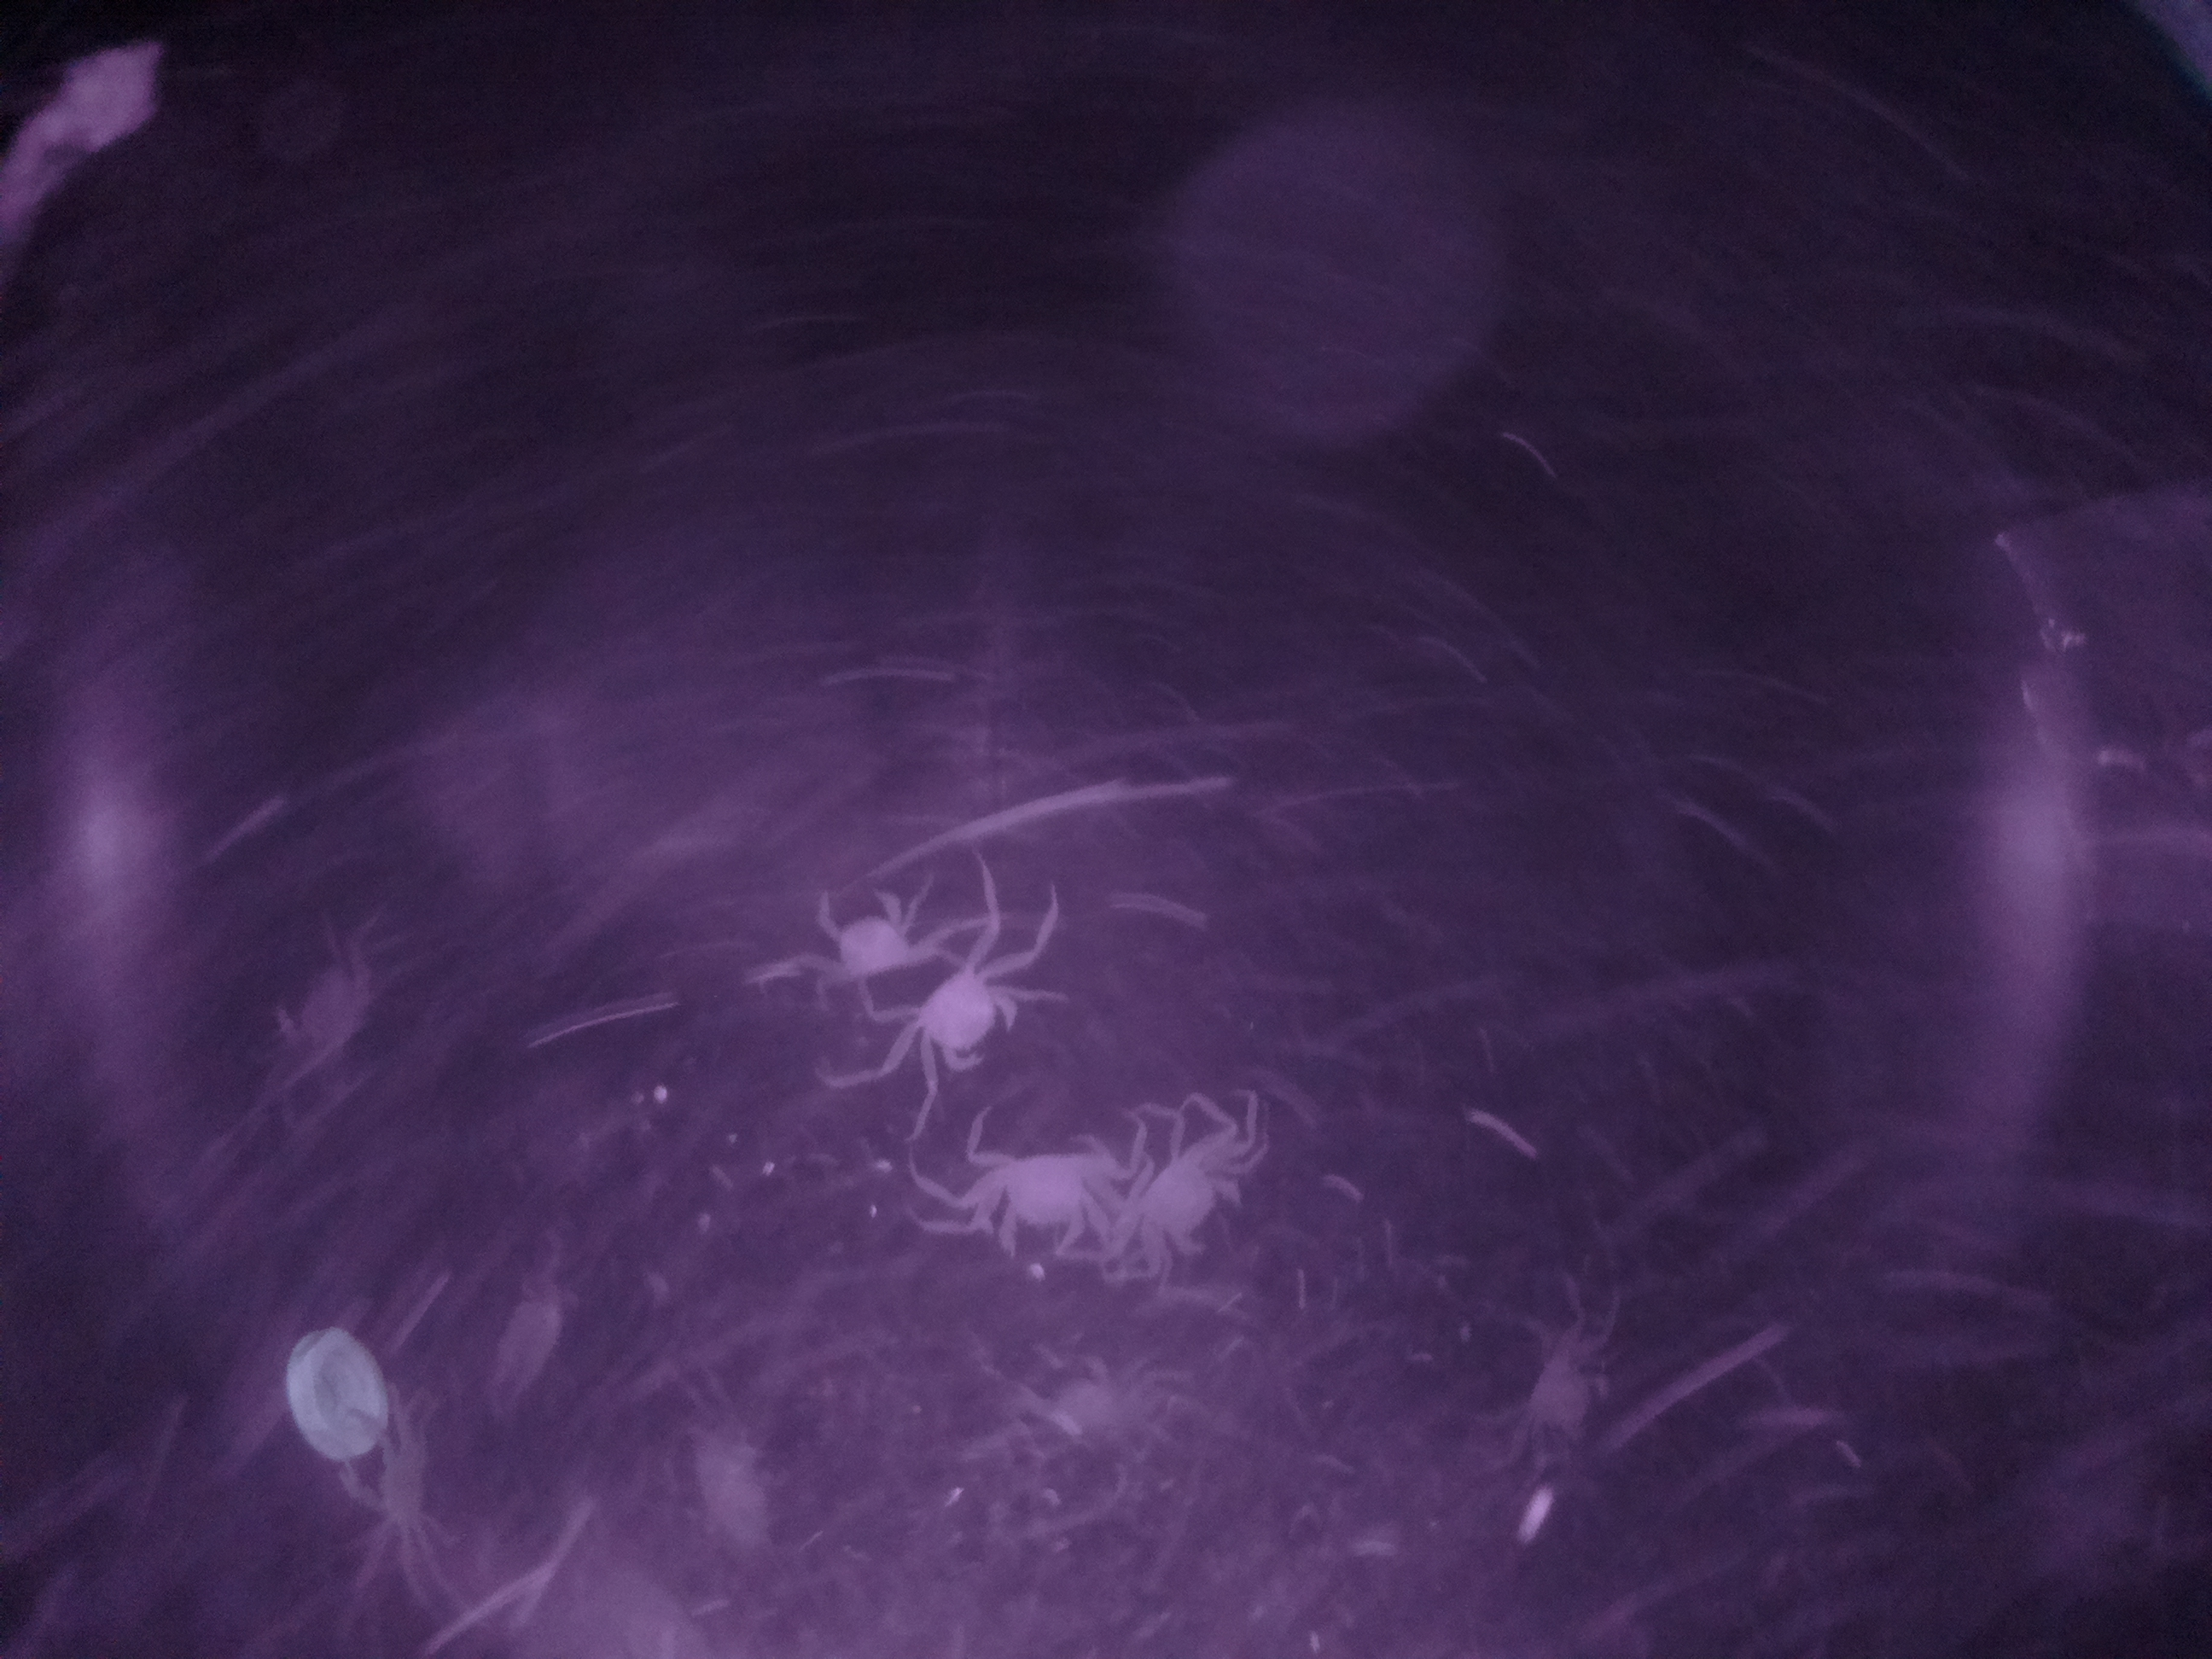Crab: (972, 1122, 1123, 1272), (894, 939, 1024, 1077)
